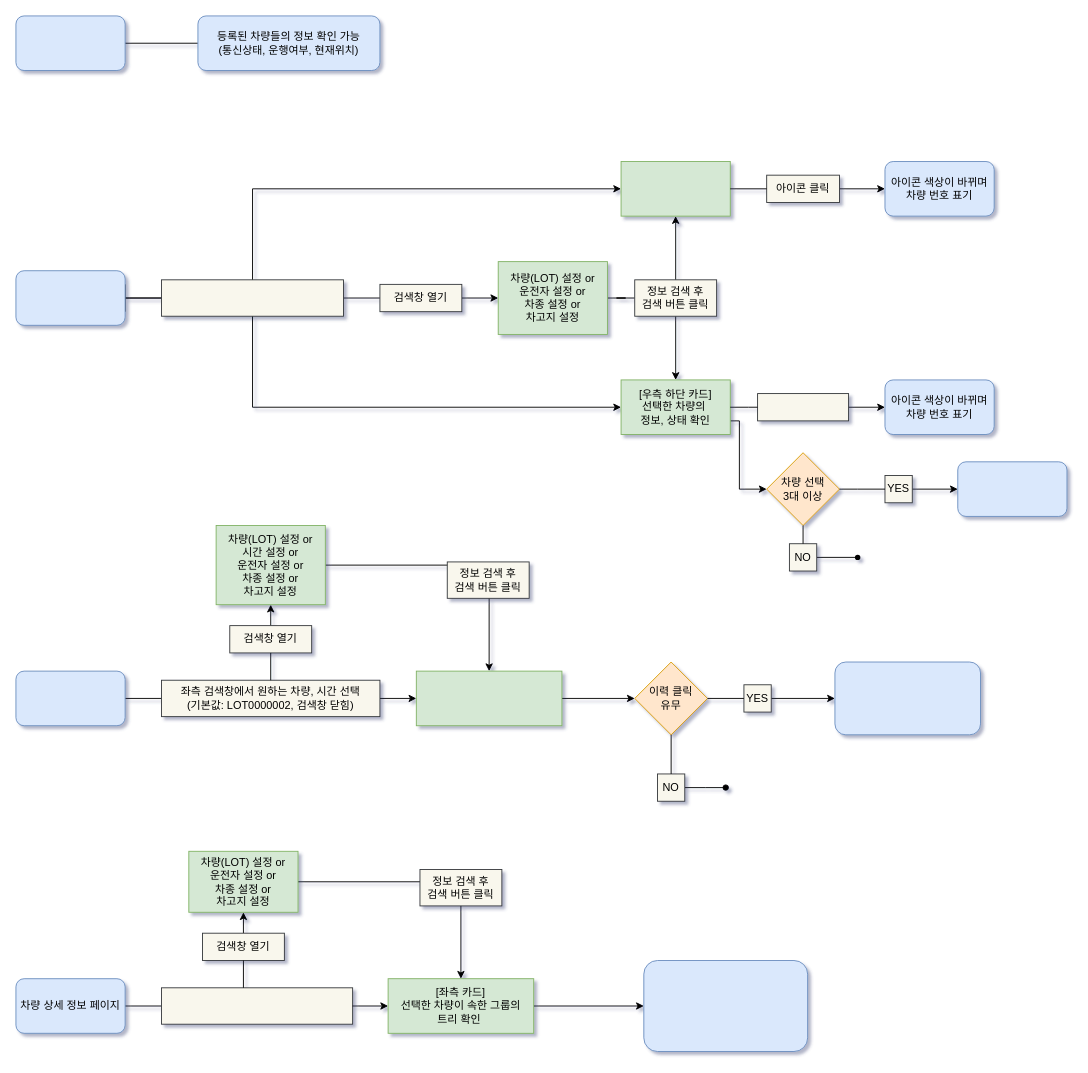
Image size: 1088x1073. Some labels were removed from this diagram. Here are the shapes that lost their labels. From the top down, the centre of each, then its label:
At (70,43): "GPS 대시보드 페이지".
At (675,188): "[우측 상단 카드] 선택한 차량의 현재 위치 확인".
At (70,297): "실시간 GPS 페이지".
At (252,297): "좌측 트리에서 원하는 차량 선택 (기본값: LOT0000002, 검색창 닫힘)".
At (803,407): "체크박스 클릭".
At (1012,488): "카드 가장자리 클릭 시 옆으로 이동 되며 다음 차량 확인 가능".
At (70,698): "운행 이력 페이지".
At (488,698): "[좌측 카드] 선택한 차량의 현재까지 운행 이력 확인".
At (907,698): "[우측 카드] 클릭한 이력의 경로와 이력의 시간동안의 전류, 전압, 온도, 습도 차트 확인 가능".
At (257,1005): "좌측 검색창에서 원하는 차량선택 (기본값: LOT0000002, 검색창 닫힘)".
At (725,1006): "[우측 카드] 선택한 차량의 세부정보 테이블 현재위치 실시간 전류,전압, 온도, 습도 확인 가능".
